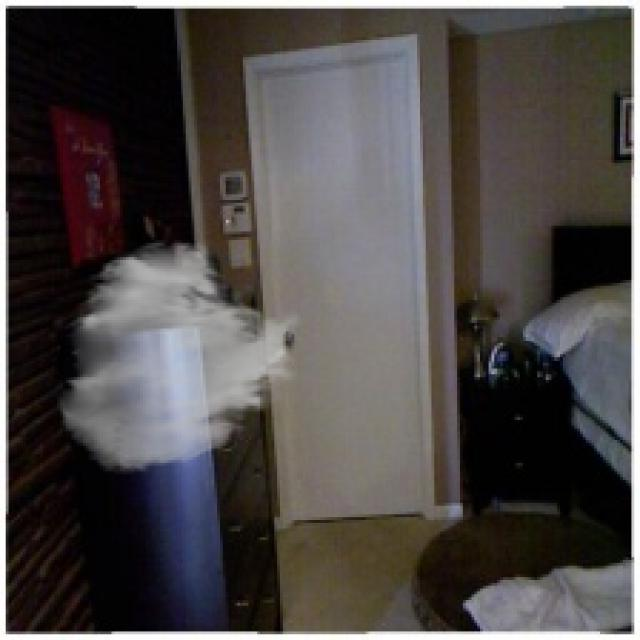smoke: (54, 237, 306, 474)
